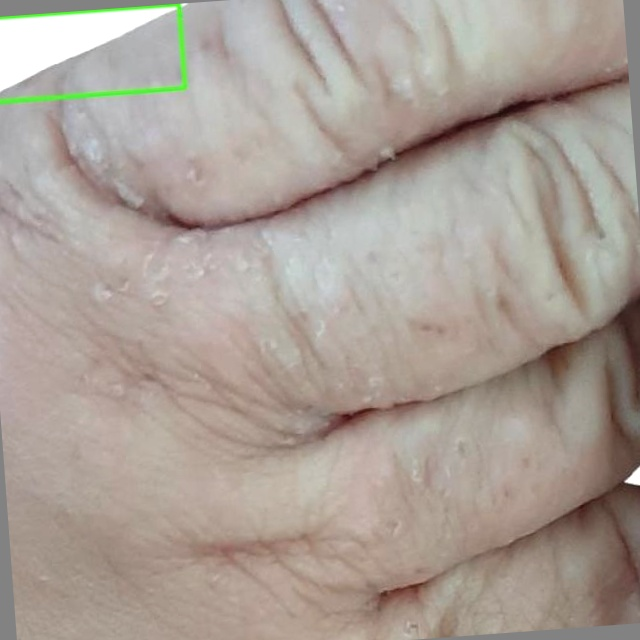Scabies: (0, 4, 186, 101)
